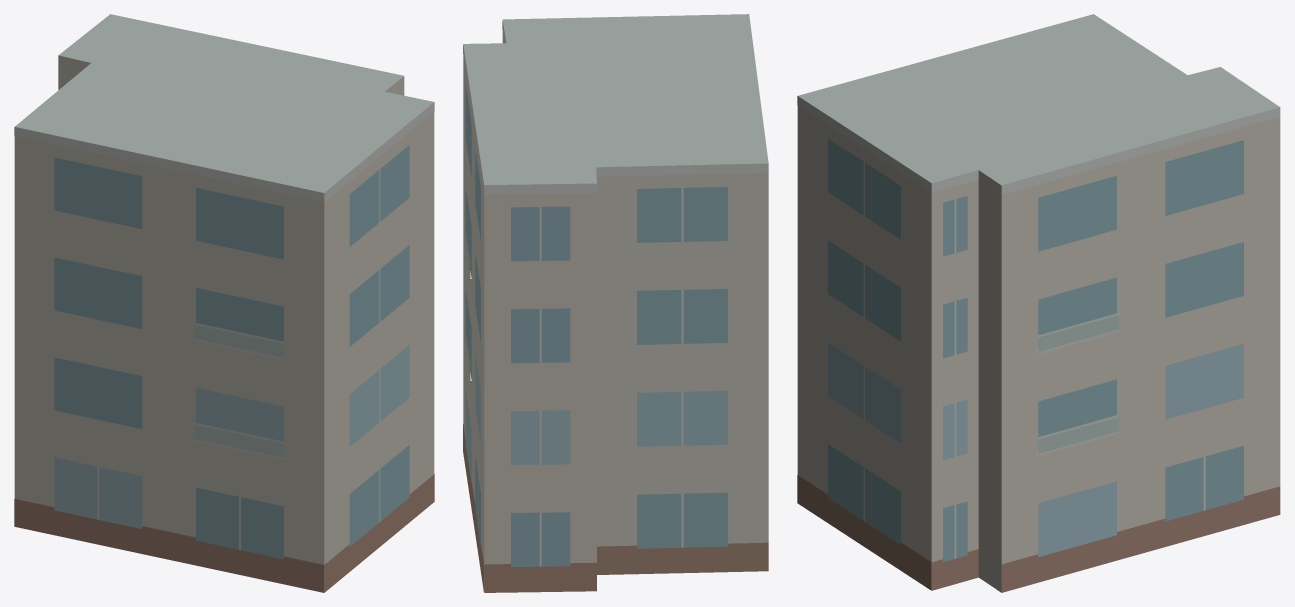
File: survey-upis-32733231.glb
The picture shows the model from 3 angles, left to right: view 1: azimuth 30°, elevation 25°; view 2: azimuth 150°, elevation 25°; view 3: azimuth 270°, elevation 25°; orthographic projection.
Parts seen in each view (by area): view 1: survey-upis-32733231.tmp; view 2: survey-upis-32733231.tmp; view 3: survey-upis-32733231.tmp.
Boxes of the visible parts, x1,y1,x2,y2 form: survey-upis-32733231.tmp: (14,14,434,592); survey-upis-32733231.tmp: (463,14,768,592); survey-upis-32733231.tmp: (797,14,1280,592).
Size of the model in its own units: 9.48 by 10.5 by 11.28.
